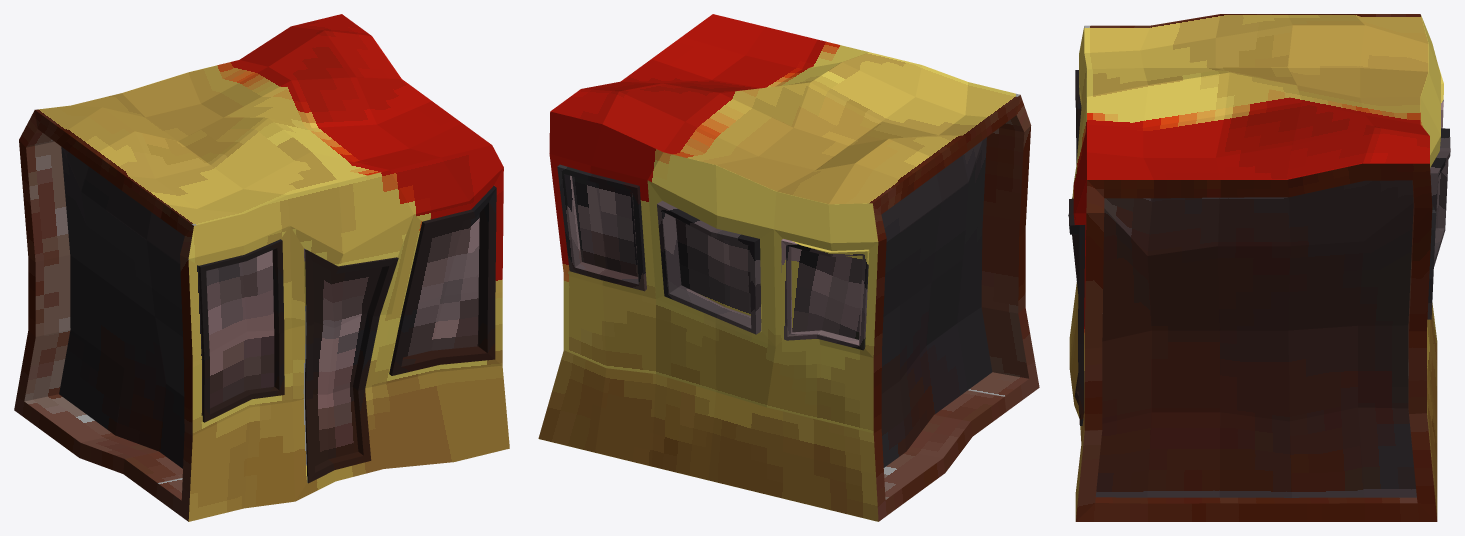
File: BondiMedio v2.glb
3 renders of one model, left to right at view 1: azimuth 30°, elevation 25°; view 2: azimuth 150°, elevation 25°; view 3: azimuth 270°, elevation 25°, orthographic. The views are drawn at different scales.
Parts seen in each view (by area): view 1: BondiMid; view 2: BondiMid; view 3: BondiMid.
Part boxes in pixels (box(x1,y1,x2,y2)): BondiMid: box(14, 14, 509, 521); BondiMid: box(538, 14, 1039, 521); BondiMid: box(1068, 14, 1450, 521).
Bounding box in the file's own units: 2 × 1.9 × 1.8.
Materials: 1 (1 with a texture image).
